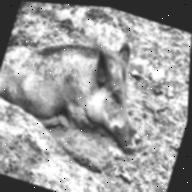boar: (0, 14, 178, 173)
